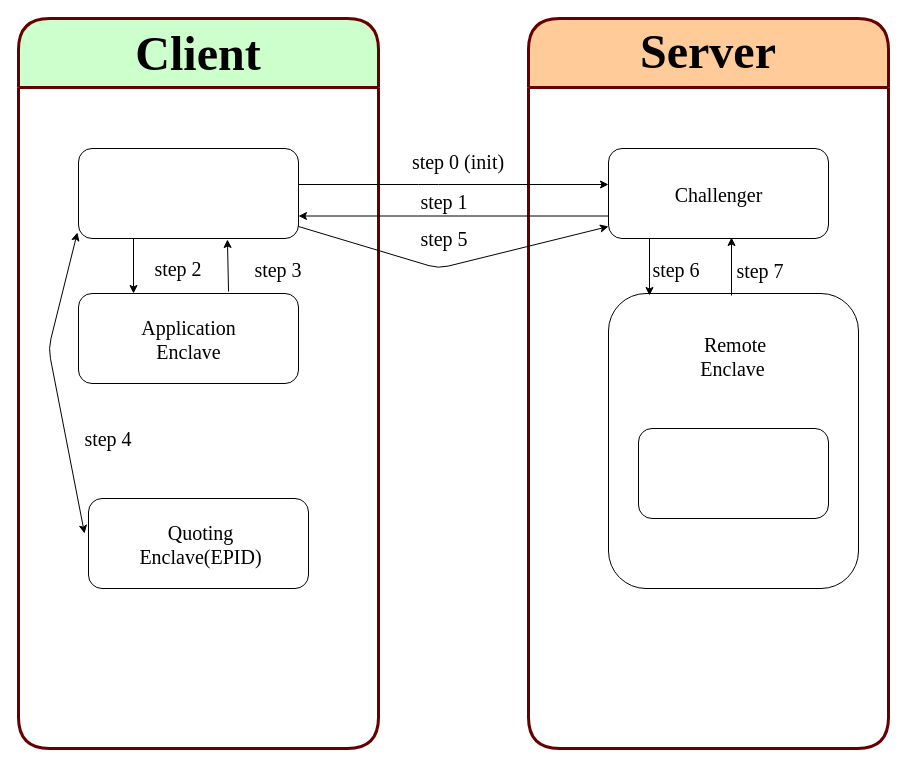
This 907x767 diagram has some shape labels left out. The shapes that lost their labels are listed below. From the top down, each one's centre as x and y in pixels, then its label:
the point at 188,193: Application
the point at 733,473: Attestation Verification
